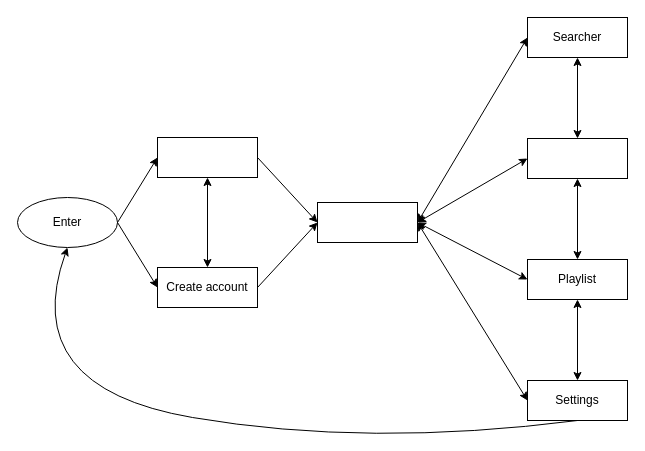
The diagram is 645 pixels wide and 451 high, and some of its shapes have lost their labels. Each missing label, with the centre of its shape:
Home: (x=367, y=222)
Library: (x=577, y=158)
Login account: (x=207, y=157)
